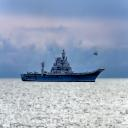Portanaves: (21, 49, 107, 84)
